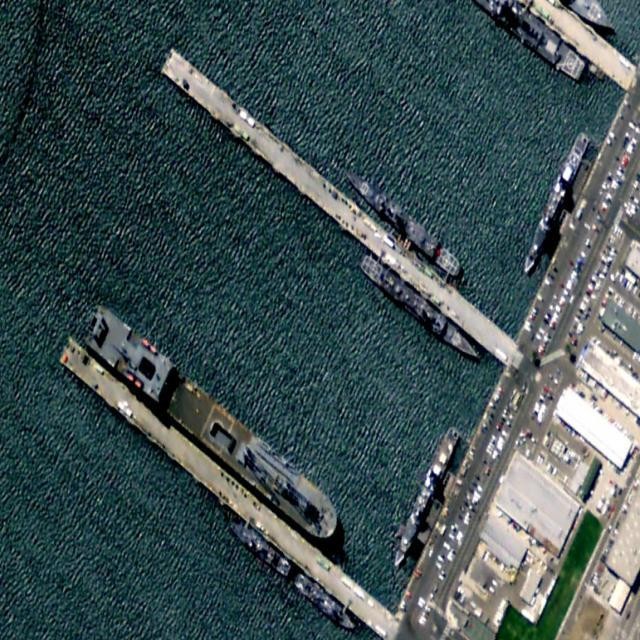Frigate: (340, 162, 463, 280), (357, 251, 482, 364)
Other Ship: (79, 297, 345, 549), (519, 124, 592, 282), (389, 420, 461, 578), (291, 568, 356, 634), (226, 515, 291, 579)
